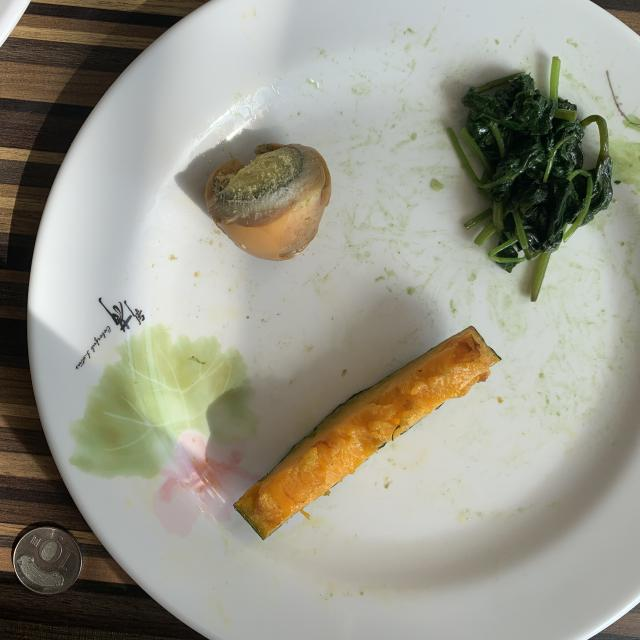coin: (12, 526, 82, 595)
pumpkin: (234, 326, 500, 539)
soy egg: (205, 144, 331, 261)
sweet potato leaves: (449, 58, 612, 301)
